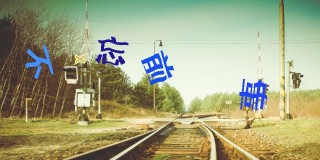不: (23, 44, 55, 78)
事: (238, 77, 268, 111)
前: (140, 50, 174, 85)
忘: (95, 34, 129, 66)
